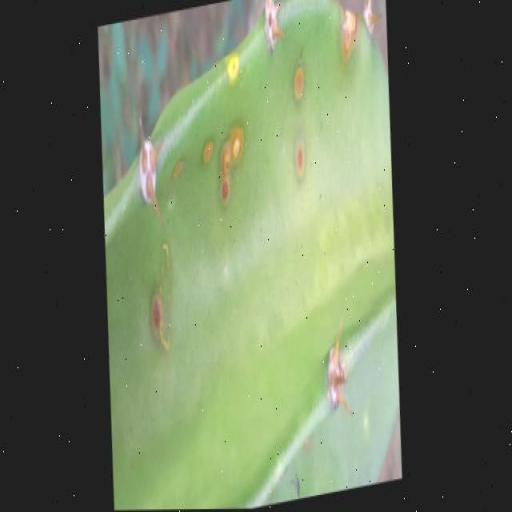stemcanker: (283, 137, 320, 192), (195, 130, 216, 179)
